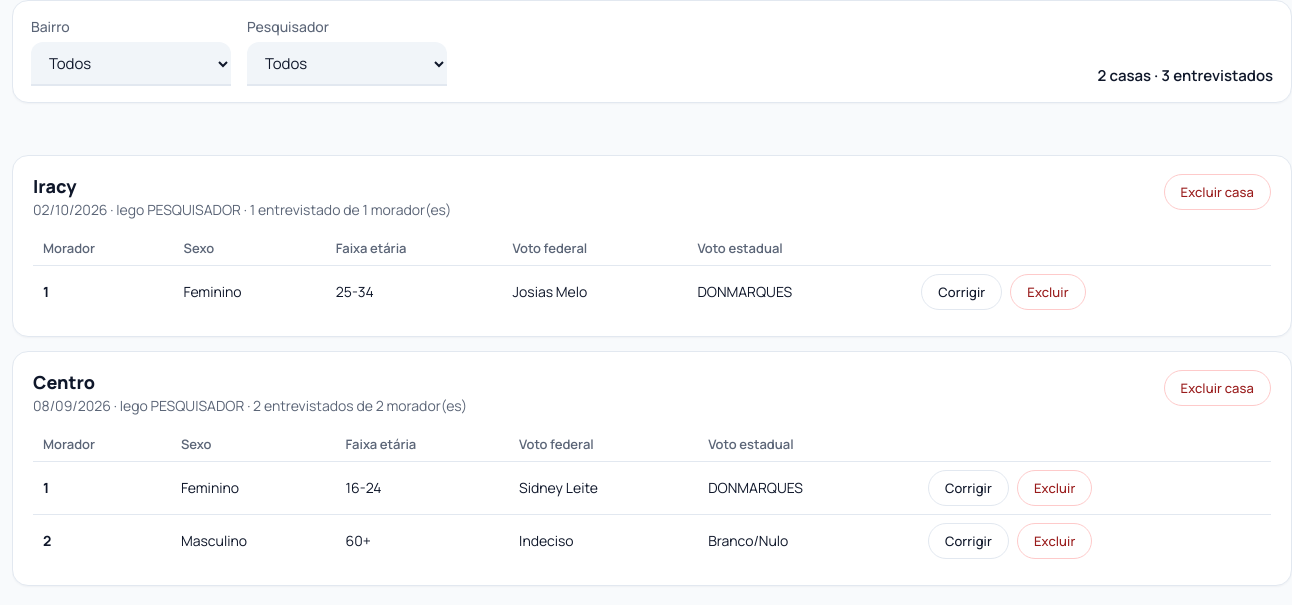
Test: PainelEntrevistas › corrige o voto de um morador
The width and height of the screenshot is (1292, 605).
Click the button with aria-label "Corrigir morador 1 da casa de Centro". click: (968, 488)
box: [928,470,1009,506]
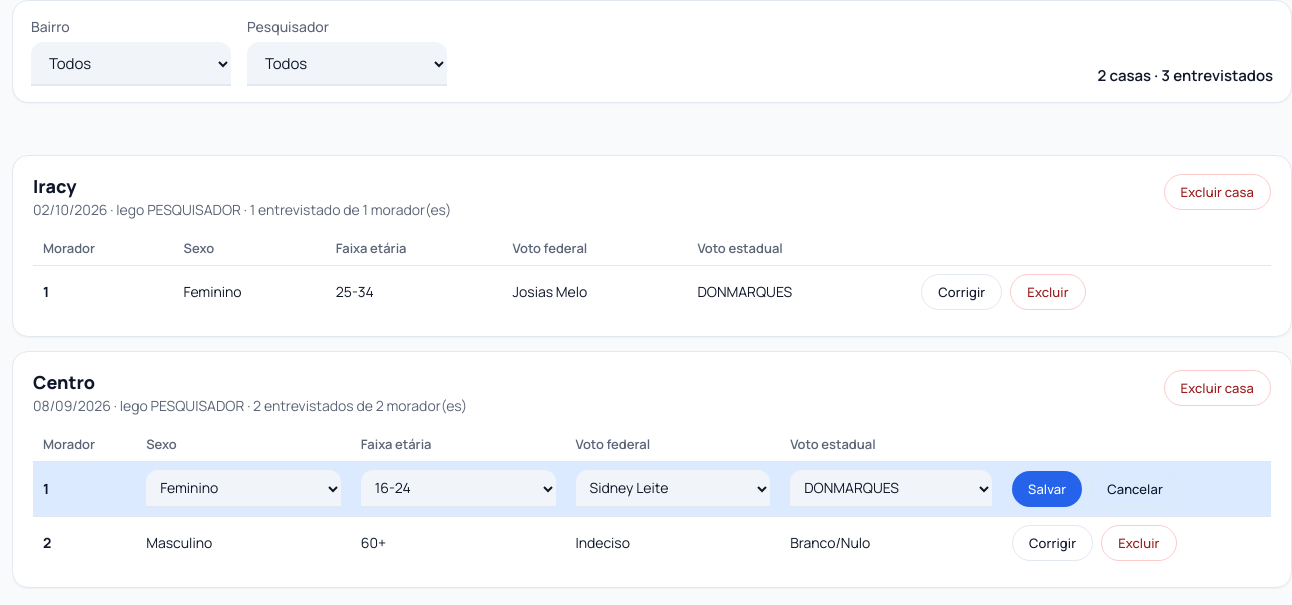
Select "Josias Melo" in the dropdown named "Voto federal do morador 1 da casa de Centro". click: (673, 489)
box: [576,470,770,508]
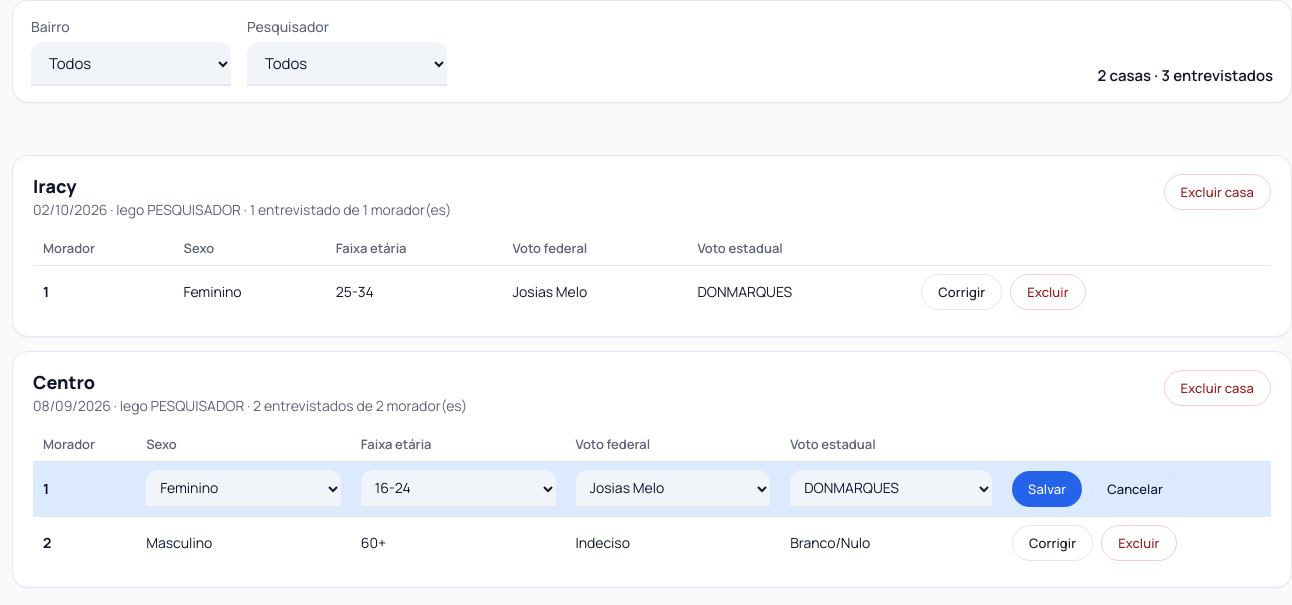
Click the button "Salvar". click: (1047, 489)
box: [1012,471,1082,507]
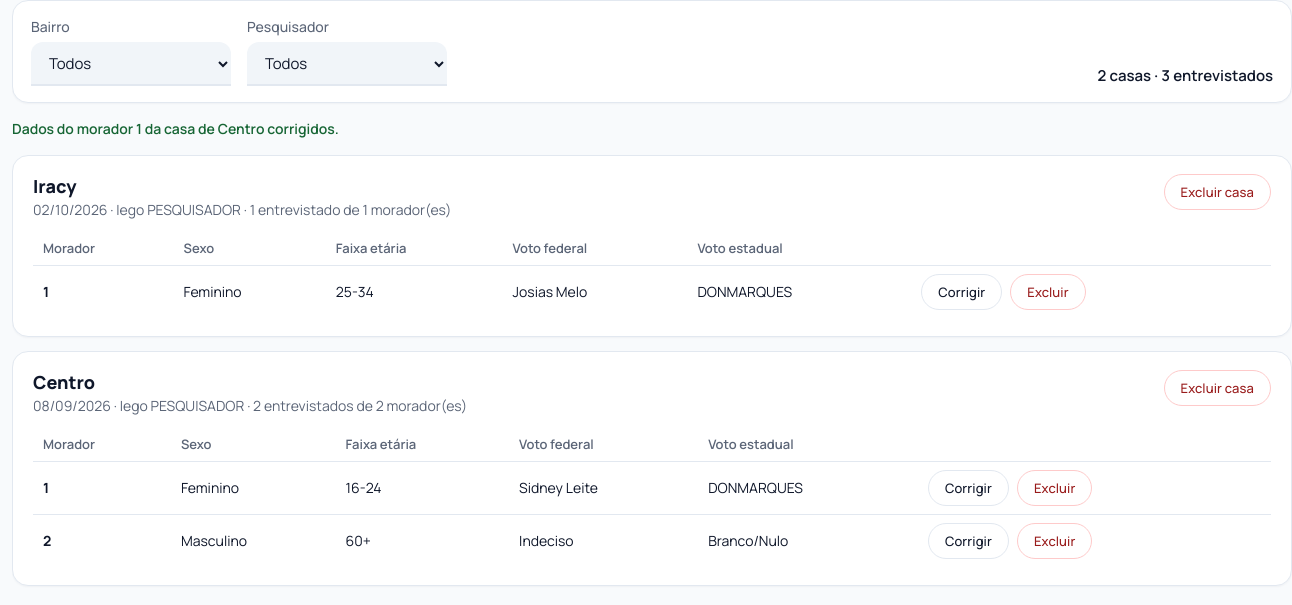
Check: the message reads "Dados do morador 1 da casa de Centro corrigidos.", box [12,119,339,138]
